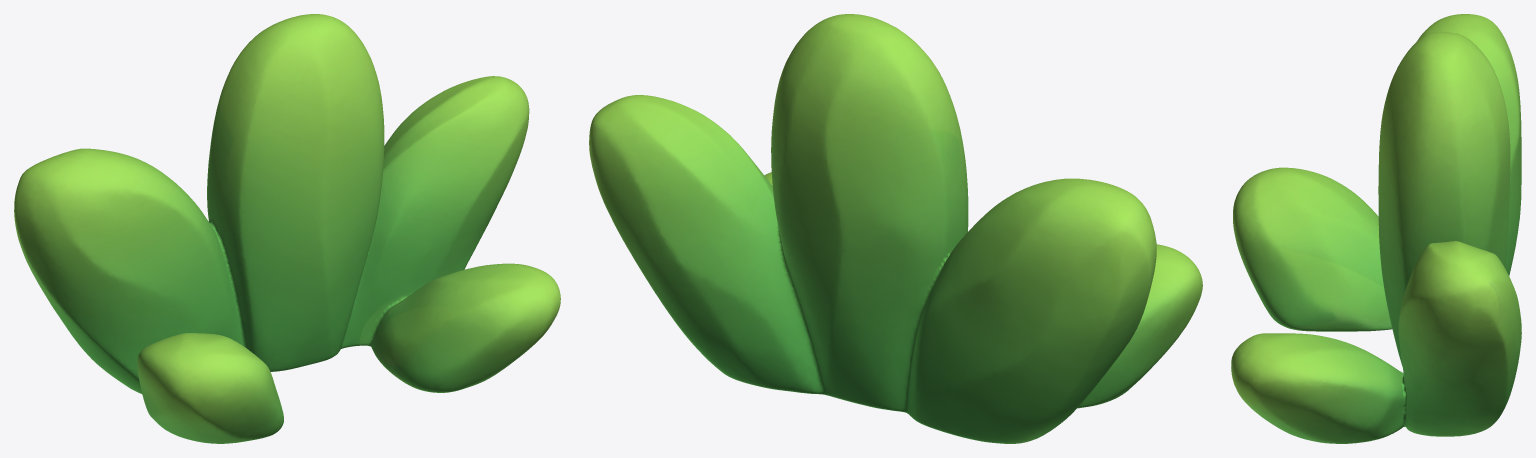
File: Meshy_AI_Green_Leaf_Cluster_20261121_texture.fbx
3 views of the same model, side by side, from view 1: azimuth 30°, elevation 25°; view 2: azimuth 150°, elevation 25°; view 3: azimuth 270°, elevation 25° (orthographic). The views are drawn at different scales.
Parts seen in each view (by area): view 1: Mesh_0; view 2: Mesh_0; view 3: Mesh_0.
Part boxes in pixels (x1,y1,x2,y2): Mesh_0: [14, 14, 560, 443]; Mesh_0: [589, 14, 1202, 443]; Mesh_0: [1231, 14, 1521, 443].
Bounding box in the file's own units: 190 × 120 × 92.21.
1 material, 1 textured.
